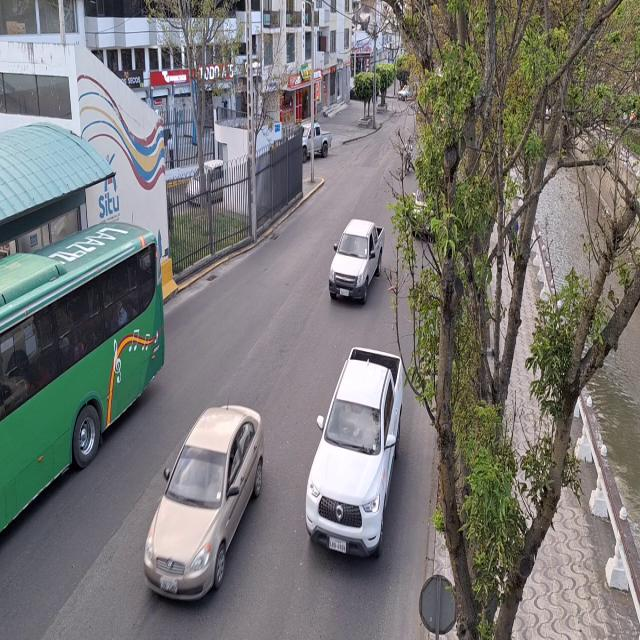BUS: (0, 231, 162, 541)
CMT: (305, 352, 403, 556), (330, 223, 385, 305)
SED: (144, 402, 264, 598)
